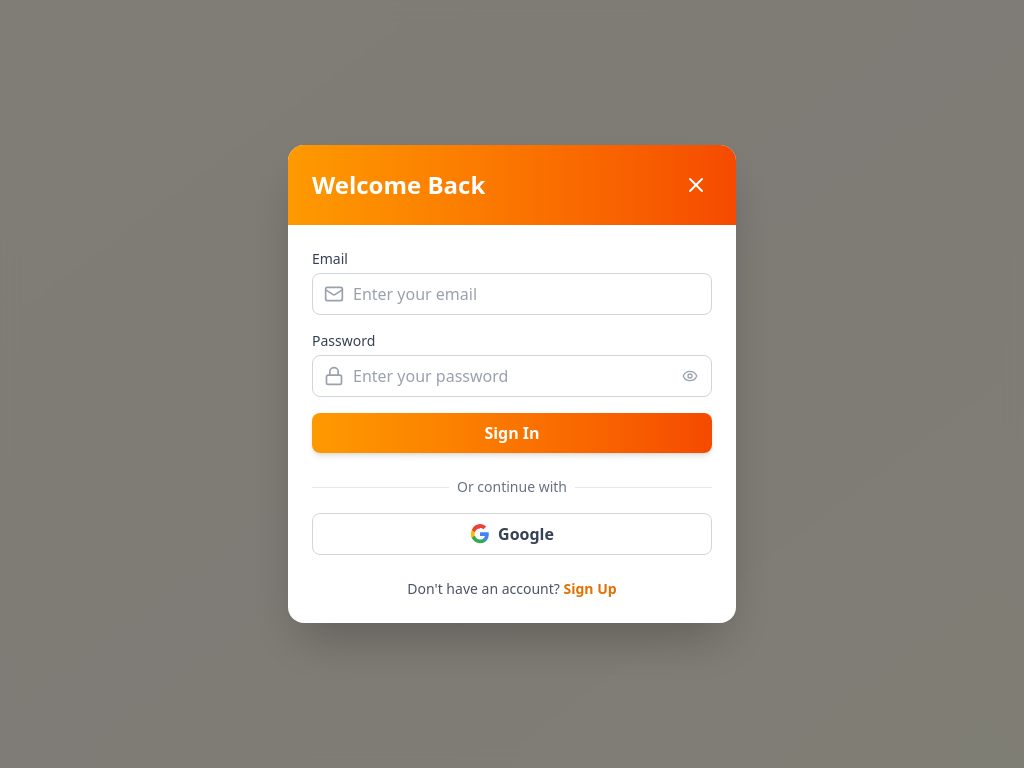
Test: AuthModal › toggles to sign up form when Sign Up link is clicked
Click the button "Sign Up" at (590, 589), box [564,579,617,599]
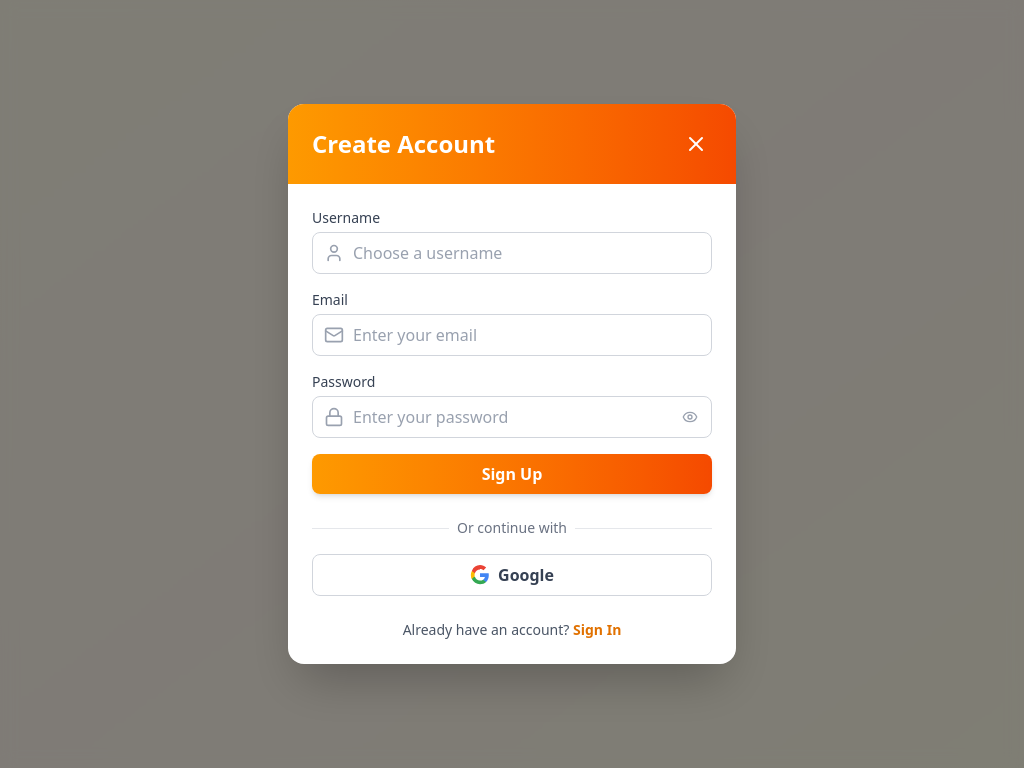
Expected: the heading "Create Account" is shown, [312,128,495,160]
